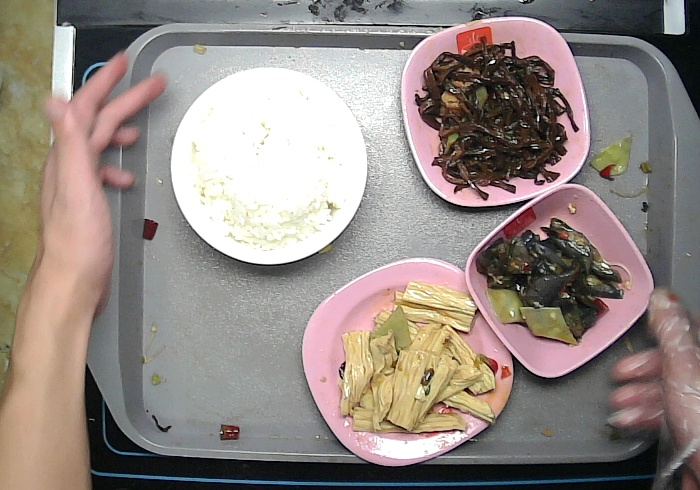SHKJ-Fan_Wan: (170, 68, 369, 266)
SHKJ-Fen_Se_Cai_Die: (399, 15, 593, 207)
SHKJ-Fen_Se_Si_Fang_Cai_Die: (301, 260, 519, 463)
SHKJ-Fen_Se_Xiao_Fang_Die: (465, 188, 655, 377)
